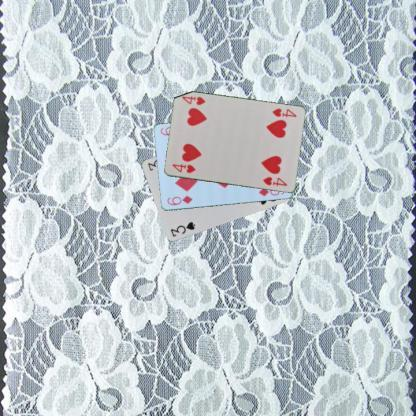3s: (168, 220, 197, 238)
4h: (170, 161, 196, 175), (270, 106, 298, 119)
6d: (165, 193, 194, 207)
